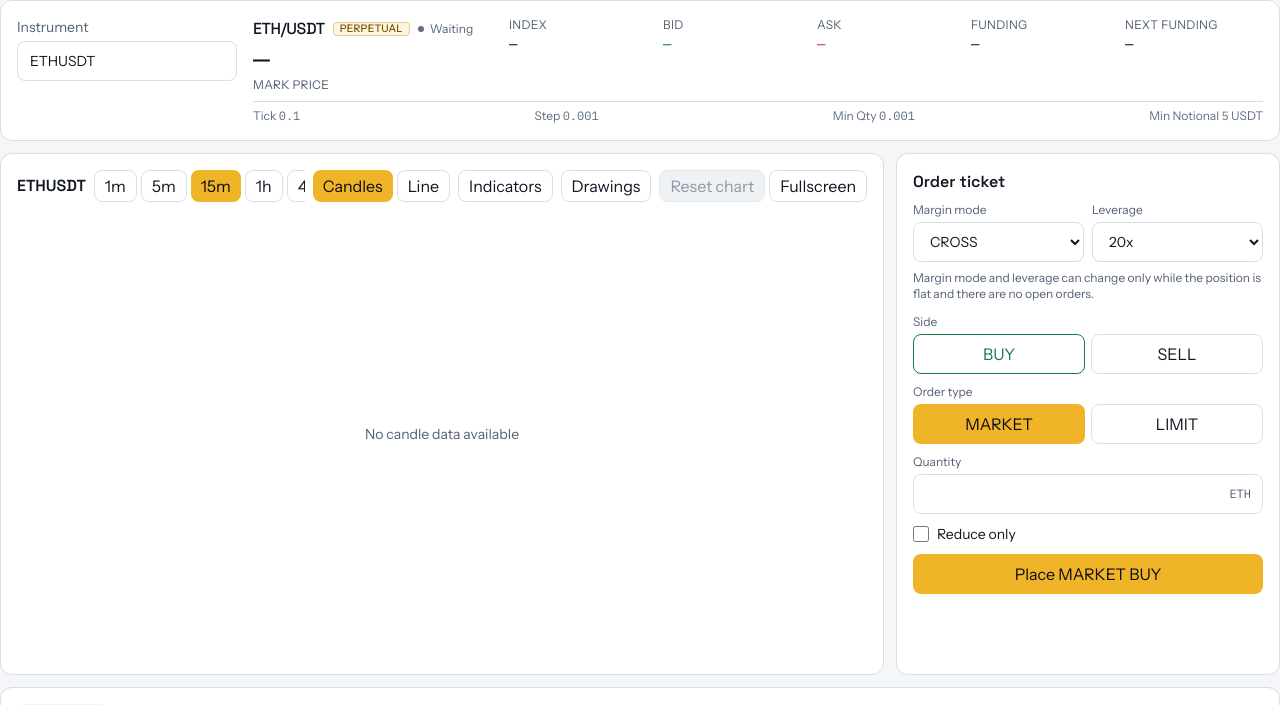
TradePage › changes the market socket subscription when a catalog instrument is chosen
Click the dropdown labelled "Instrument": (127, 61) top-left (17, 41), bottom-right (237, 81)
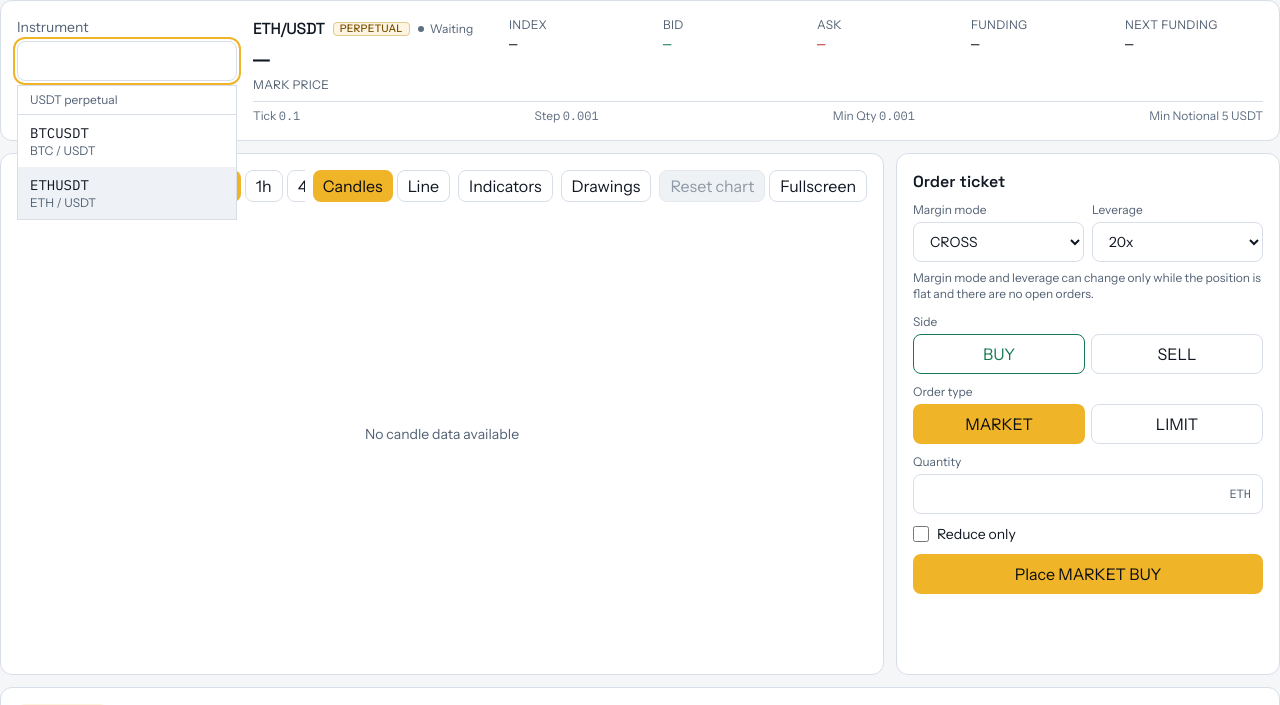
Click the option "BTCUSDT BTC / USDT": (63, 141) top-left (30, 124), bottom-right (95, 158)
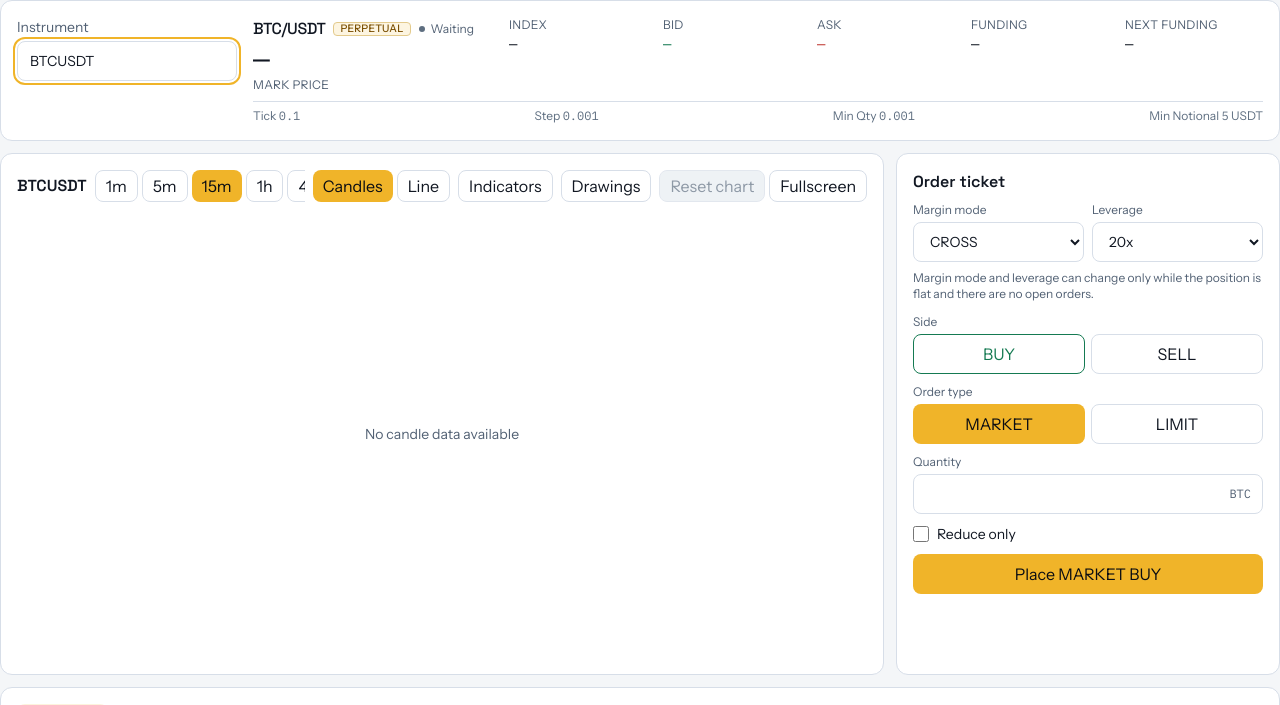
Check: the dropdown labelled "Instrument" holds "BTCUSDT", box top-left (17, 41), bottom-right (237, 81)
